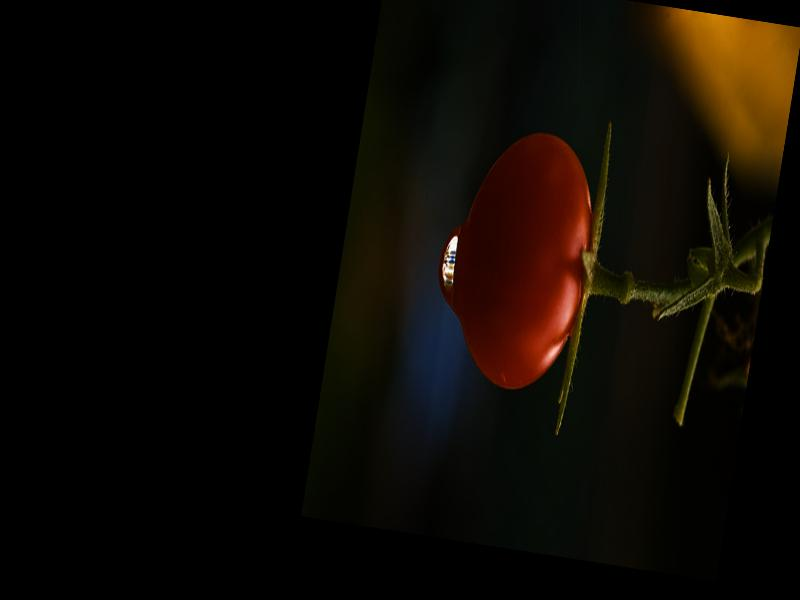Tomato: (441, 124, 607, 401)
